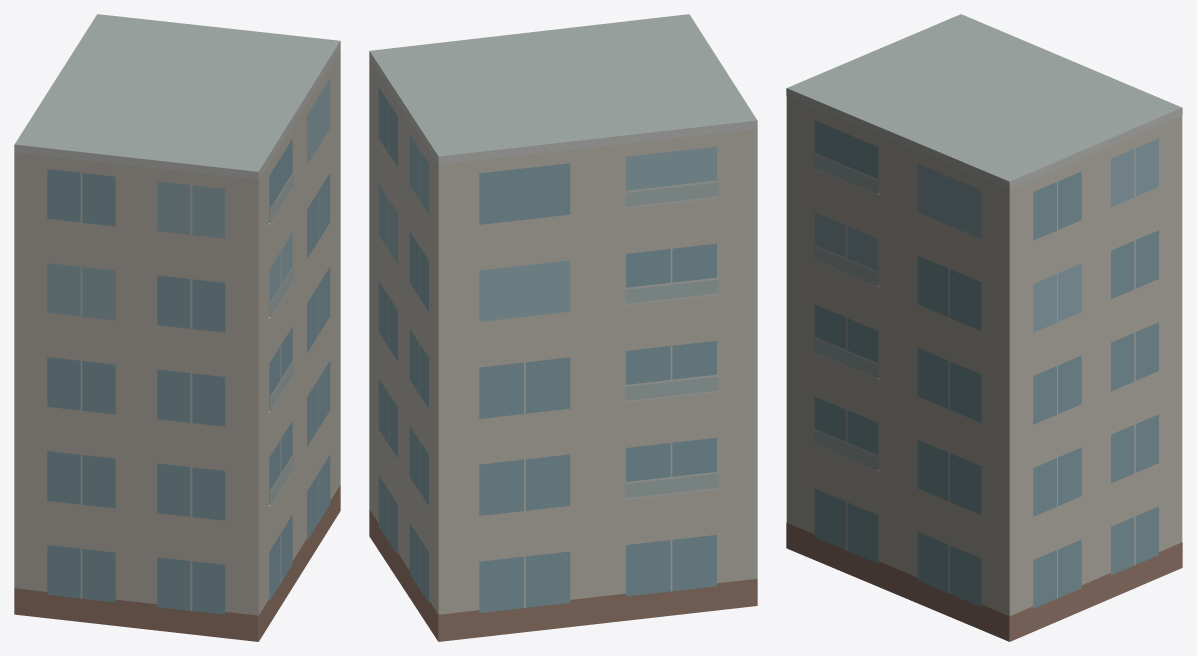
File: survey-upis-32646056.glb
3 renders of one model, left to right at view 1: azimuth 30°, elevation 25°; view 2: azimuth 150°, elevation 25°; view 3: azimuth 270°, elevation 25°, orthographic. The views are drawn at different scales.
Parts seen in each view (by area): view 1: survey-upis-32646056.tmp; view 2: survey-upis-32646056.tmp; view 3: survey-upis-32646056.tmp.
Part boxes in pixels (x1,y1,x2,y2): survey-upis-32646056.tmp: [14, 14, 340, 641]; survey-upis-32646056.tmp: [369, 14, 757, 641]; survey-upis-32646056.tmp: [786, 14, 1182, 641].
Size of the model in its own units: 11.22 by 14.35 by 11.19.
